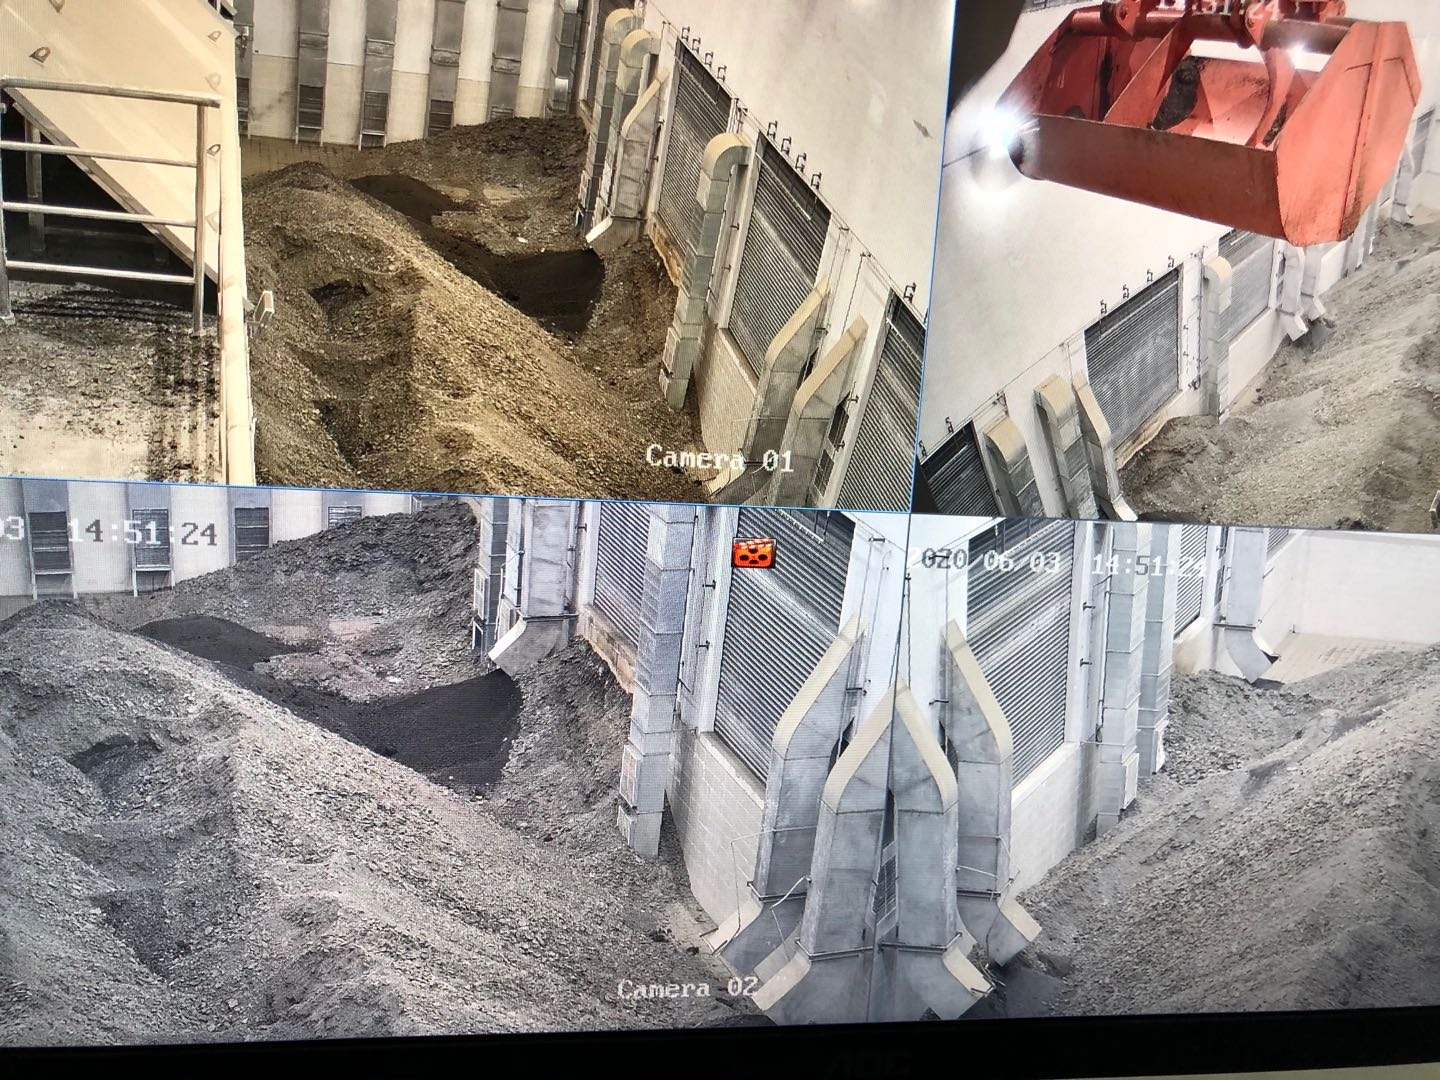grab: (984, 0, 1432, 254)
